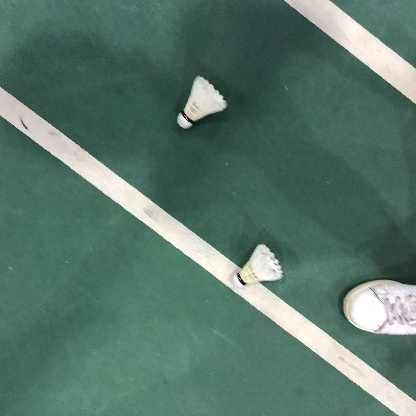ball_single: (177, 76, 227, 129), (231, 244, 284, 287)
